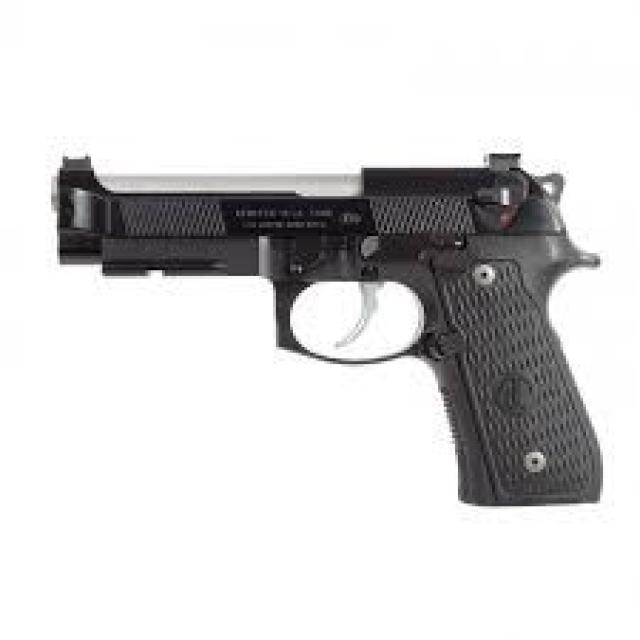pistol: (41, 148, 617, 522)
